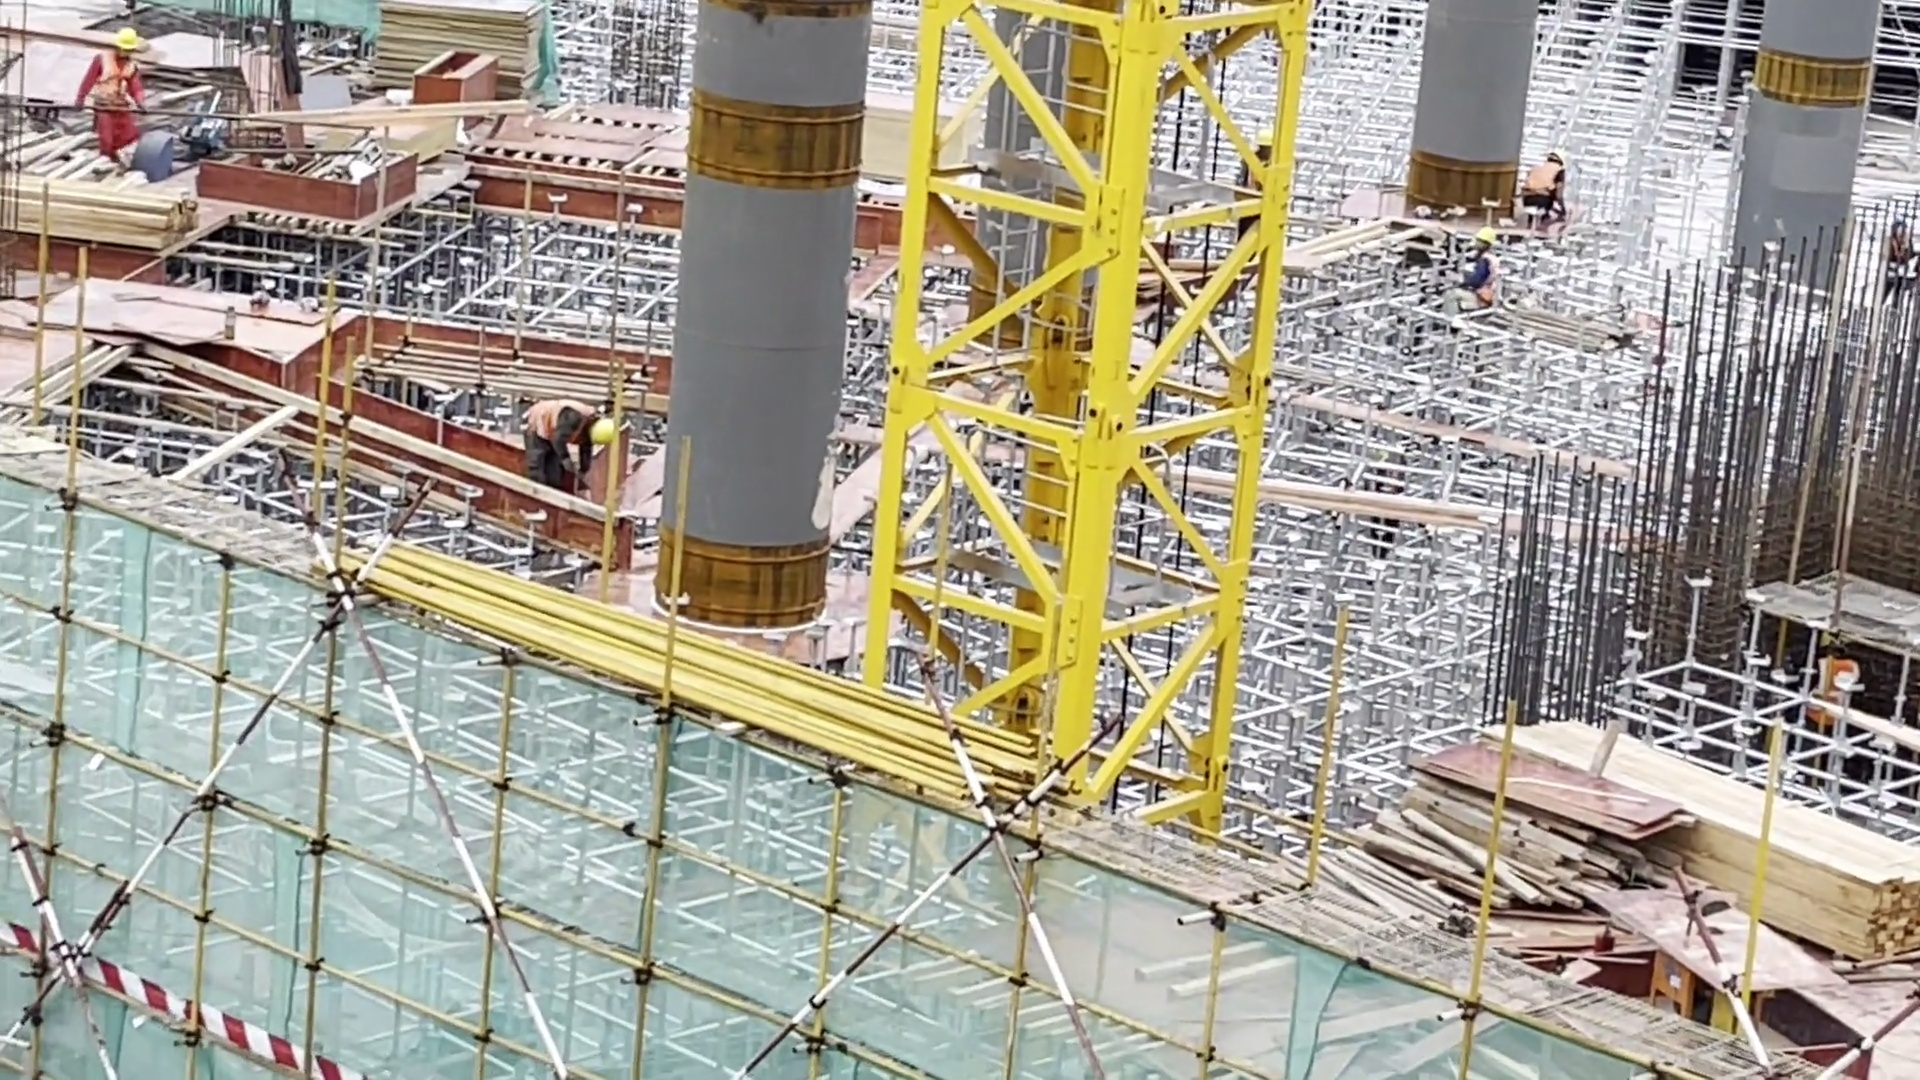cutter: (1596, 888, 1852, 1038)
helmet: (97, 18, 144, 52), (592, 409, 623, 446), (1542, 132, 1572, 169), (1250, 125, 1282, 156), (1467, 215, 1493, 248)
person: (72, 24, 158, 177), (510, 384, 615, 485), (1231, 128, 1284, 252), (1515, 137, 1577, 219), (1461, 224, 1503, 299)
vest: (81, 51, 140, 111), (519, 398, 585, 449), (1532, 155, 1557, 197), (1471, 252, 1498, 289)
wood: (1493, 720, 1920, 950), (1320, 781, 1640, 921), (90, 183, 203, 258)
